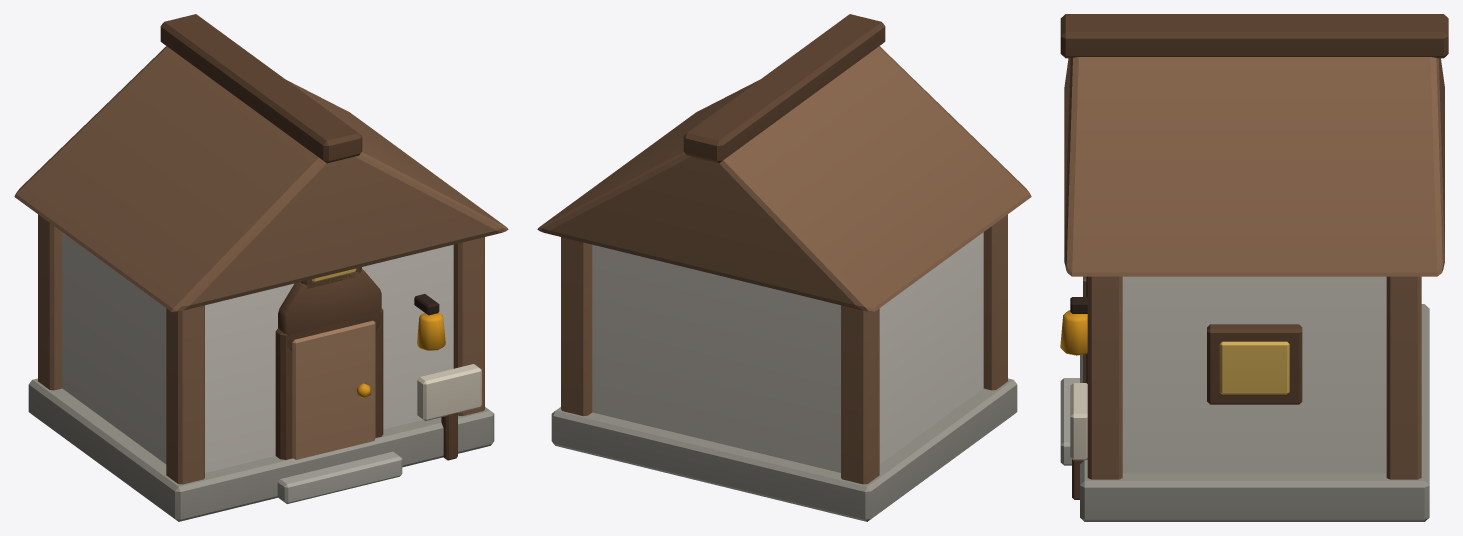
The model's file is entrance-house.glb.
3 renders of one model, left to right at view 1: azimuth 30°, elevation 25°; view 2: azimuth 150°, elevation 25°; view 3: azimuth 270°, elevation 25°, orthographic. The views are drawn at different scales.
Parts seen in each view (by area): view 1: entrance-house; view 2: entrance-house; view 3: entrance-house.
Part boxes in pixels (x1,y1,x2,y2): entrance-house: (14,14,508,521); entrance-house: (537,14,1031,521); entrance-house: (1060,14,1448,521).
Bounding box in the file's own units: 1.4 × 1.4 × 1.2.
